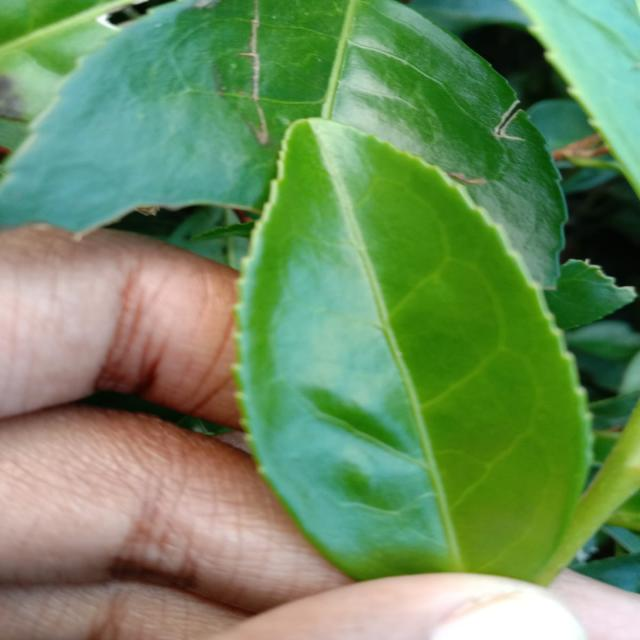Category C(4-7 days): (203, 103, 600, 592)
